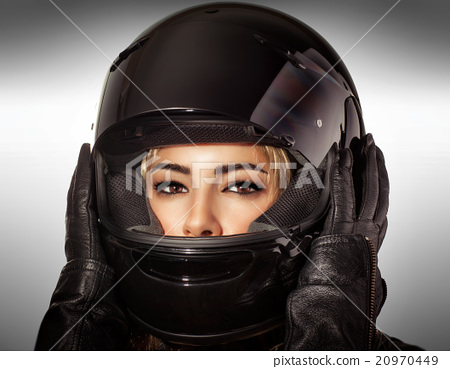helmet: (78, 13, 368, 324)
